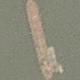ship: (0, 0, 3, 40)
